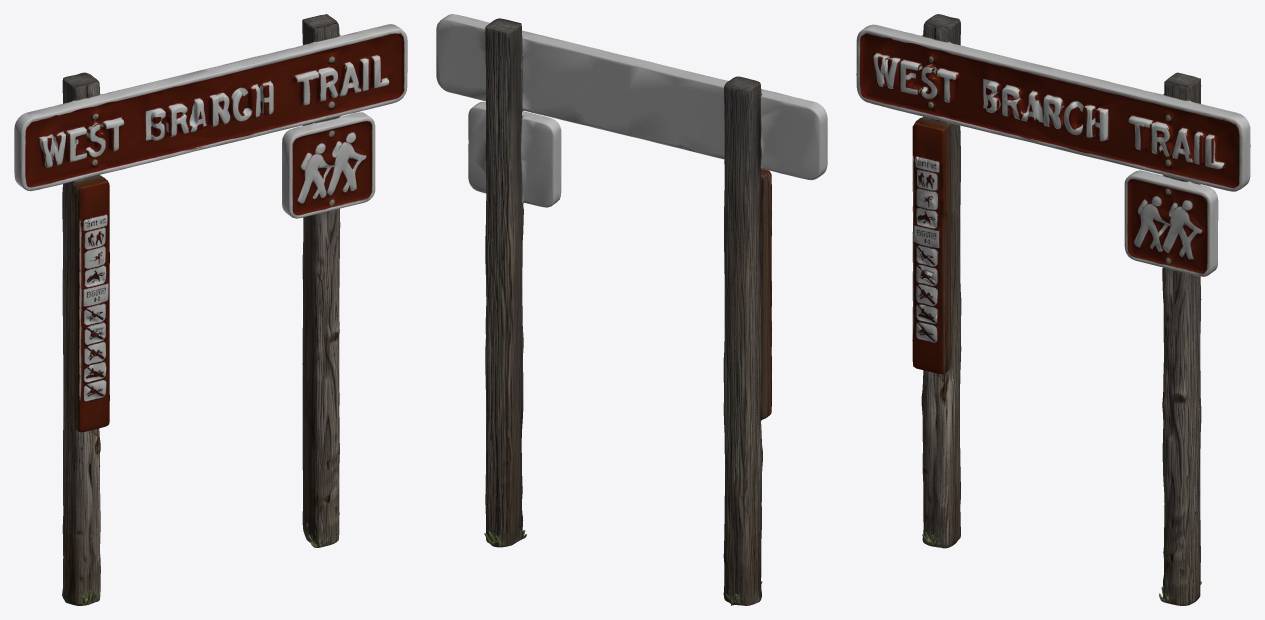
The model's file is trail-sign.glb.
The picture shows the model from 3 angles, left to right: view 1: azimuth 30°, elevation 25°; view 2: azimuth 150°, elevation 25°; view 3: azimuth 330°, elevation 25°; orthographic projection.
Parts seen in each view (by area): view 1: tripo_node_c66fa2fe; view 2: tripo_node_c66fa2fe; view 3: tripo_node_c66fa2fe.
Part boxes in pixels (<box>): tripo_node_c66fa2fe: <box>14,14,407,605</box>; tripo_node_c66fa2fe: <box>436,14,827,605</box>; tripo_node_c66fa2fe: <box>856,14,1250,605</box>.
Bounding box in the file's own units: 0.7621 × 0.9777 × 0.0954.
1 material, 1 textured.
